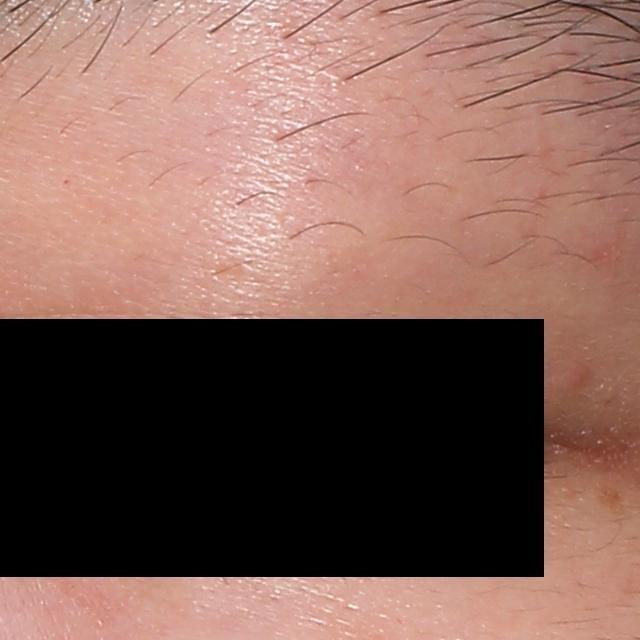papule: (560, 359, 595, 395)
